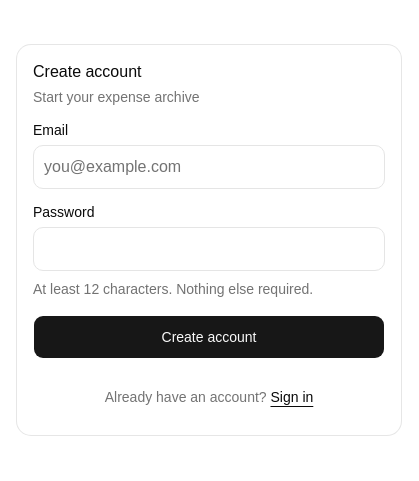
Test: sign up (AC-1) › renders the API field messages from a 400
Type "someone@example.com" into the field labelled "Email".
click(209, 167); type("someone@example.com")  # box [33,145,385,189]
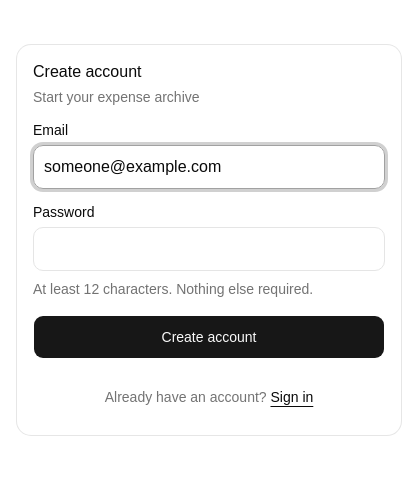
Type "correct-horse-battery" into the password field labelled "Password".
click(209, 249); type("correct-horse-battery")  # box [33,227,385,271]
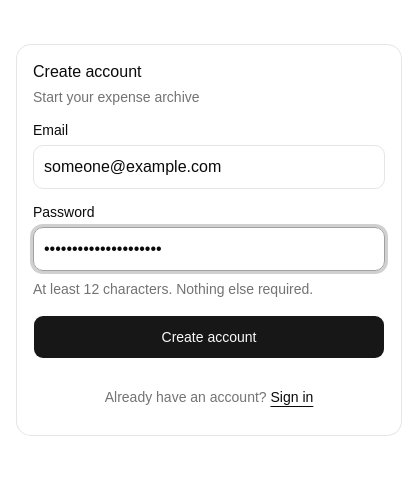
Click the button "Create account".
click(209, 337)  # box [33,315,385,359]
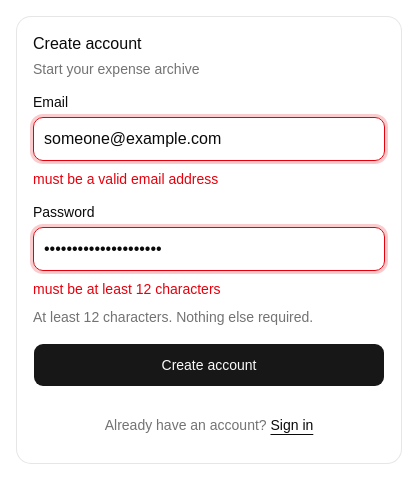
Now the text "must be a valid email address" is shown, box [33,171,218,187]
Now the text "must be at least 12 characters" is shown, box [33,281,220,297]
